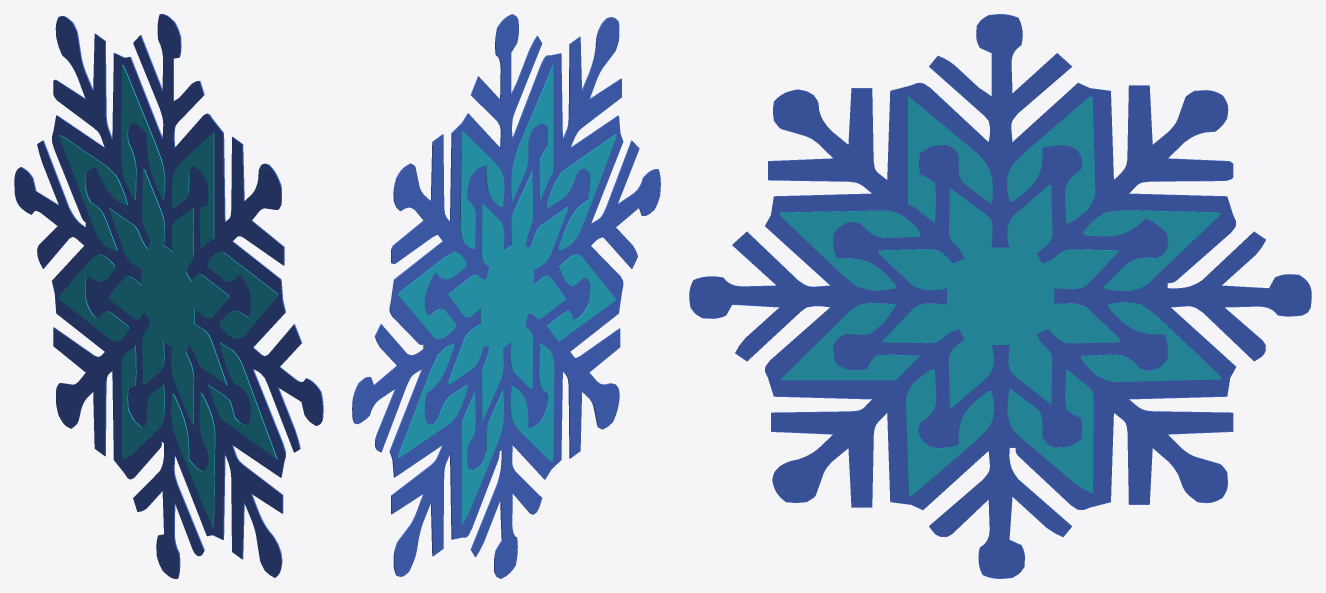
The model's file is Snowflake.glb.
3 renders of one model, left to right at view 1: azimuth 30°, elevation 25°; view 2: azimuth 150°, elevation 25°; view 3: azimuth 270°, elevation 25°, orthographic.
Visible parts, largest first — view 1: Curve.002; view 2: Curve.002; view 3: Curve.002.
Part boxes in pixels (x1,y1,x2,y2): Curve.002: (14, 14, 323, 578); Curve.002: (352, 14, 660, 578); Curve.002: (689, 14, 1311, 578).
Bounding box in the file's own units: 9.25e-05 × 0.0315 × 0.0315.
